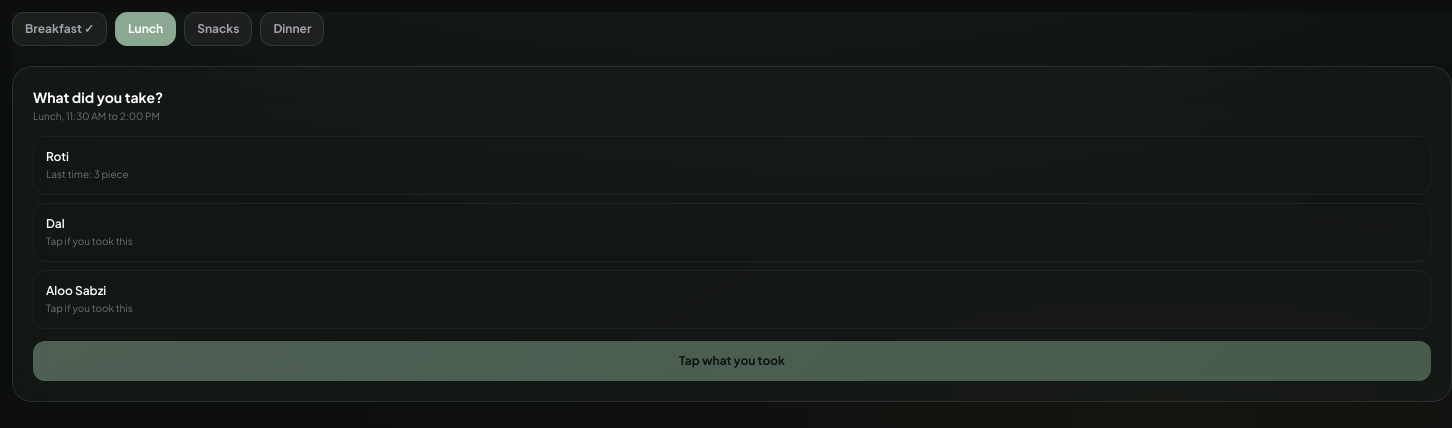
Test case: Menu meal logging › shows the last amount as a hint, then starts from it when tapped
Expected: the text "Last time: 3 piece" is shown, [46,168,129,180]
Click the text "Roti". click: [58, 156]
box: [46,149,69,164]
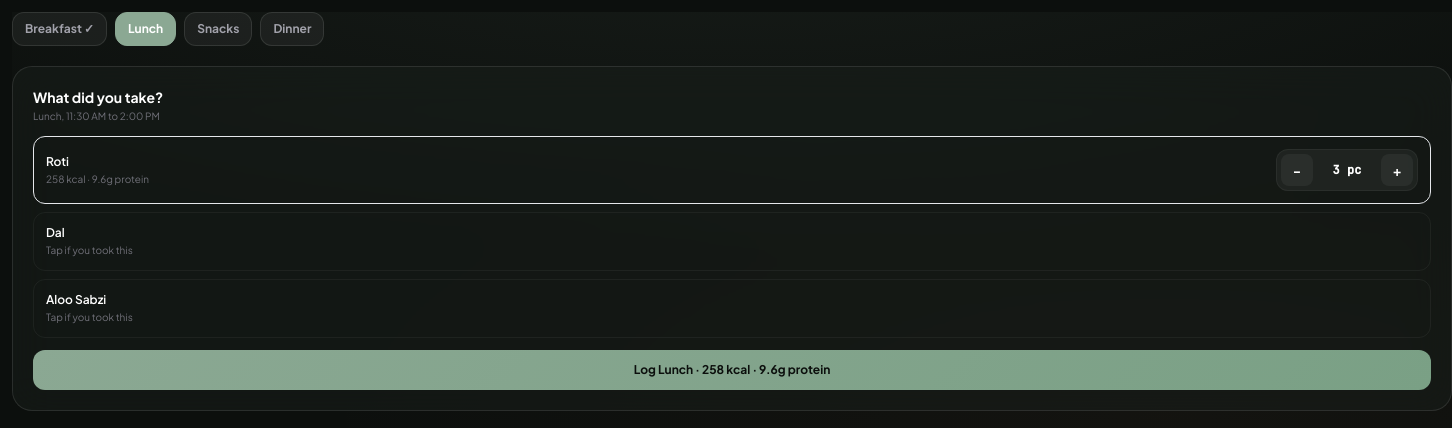
Now the text "3 pc" is shown, box [1333,162,1361,178]
Now the text "258 kcal · 9.6g protein" is shown, box [46,172,149,184]
